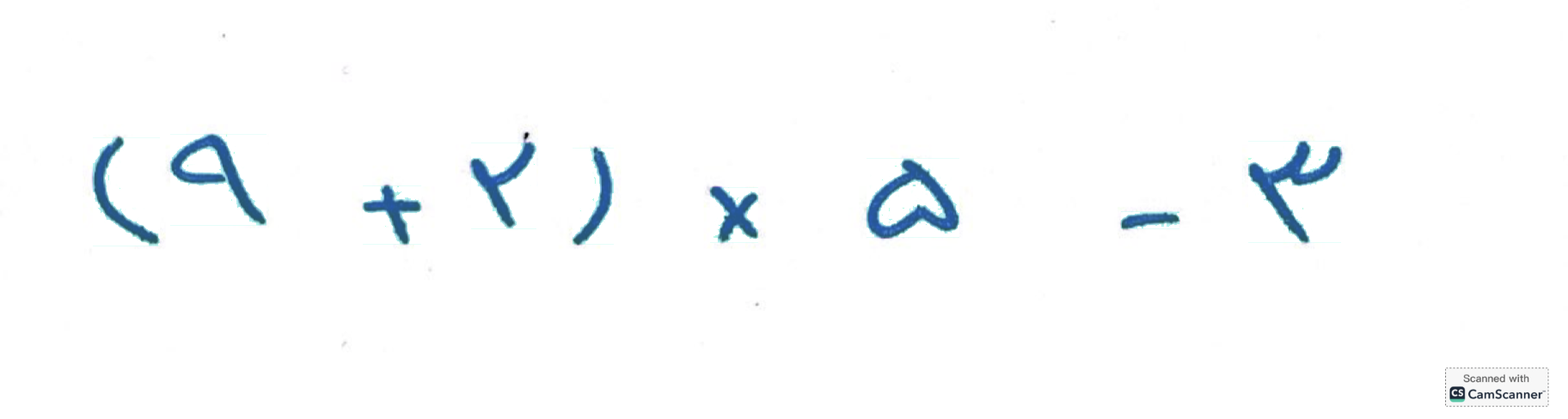character: (147, 161, 238, 316), (1264, 161, 1360, 280), (1157, 178, 1236, 311), (288, 155, 376, 271), (616, 167, 701, 280), (772, 150, 826, 314), (1453, 243, 1533, 316), (427, 215, 495, 282), (970, 220, 1024, 285)
